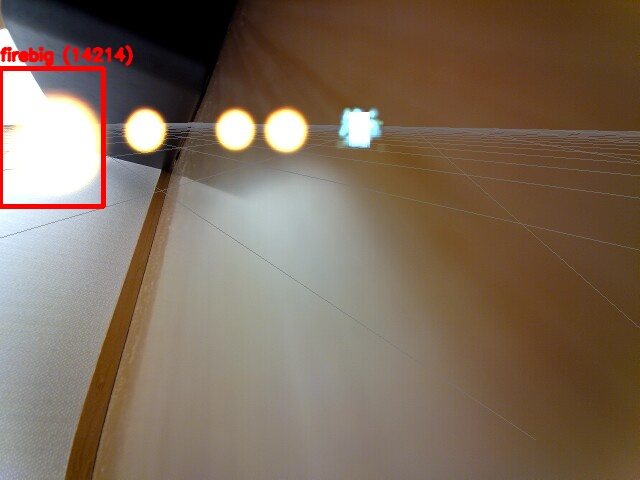firebig: (0, 68, 103, 206)
